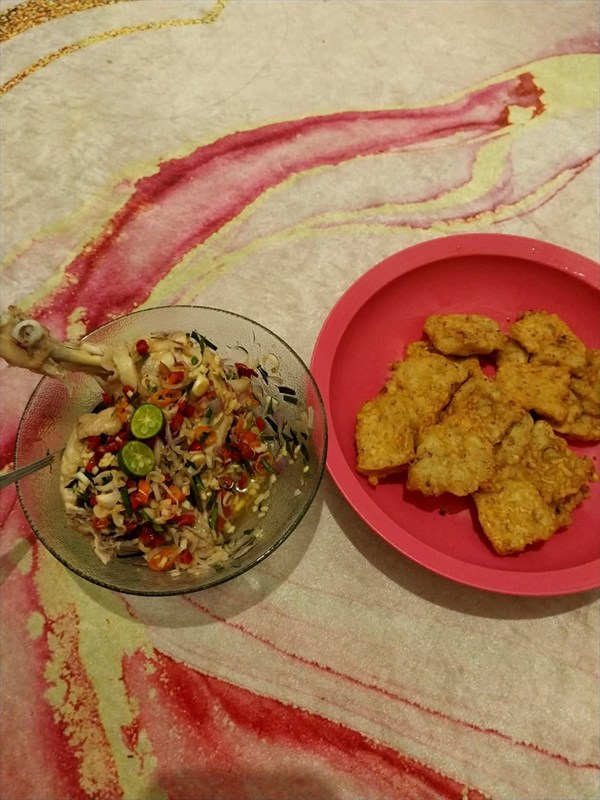Tempe Goreng: (65, 165, 576, 735)
